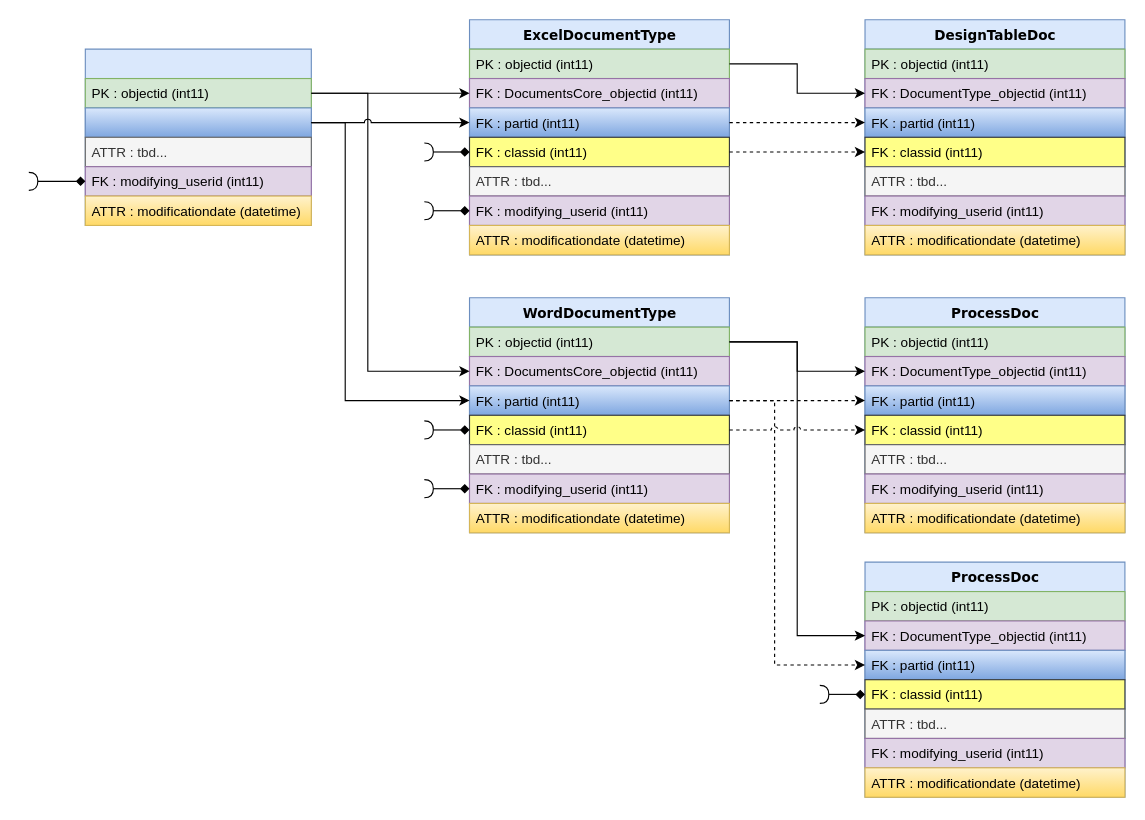
This 1145x820 diagram has some shape labels left out. Here are the shapes that lost their labels. From the top down, the box of each, then its label:
(84, 107, 311, 137): PK : partid (int11)
(84, 48, 311, 225): DocumentsCore
